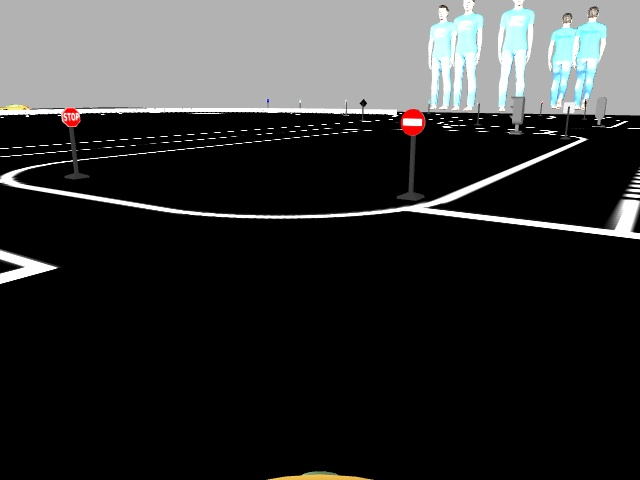NoEntry: (401, 110, 423, 134)
Stop: (60, 107, 82, 125)
